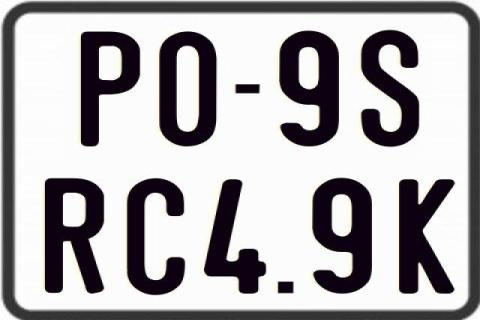0: (279, 29, 344, 149), (309, 178, 374, 296), (201, 177, 264, 293), (156, 32, 214, 150)
C: (128, 178, 190, 294)
K: (399, 179, 459, 296)
P: (78, 31, 141, 149)
R: (44, 176, 104, 291)
S: (360, 27, 422, 145)
